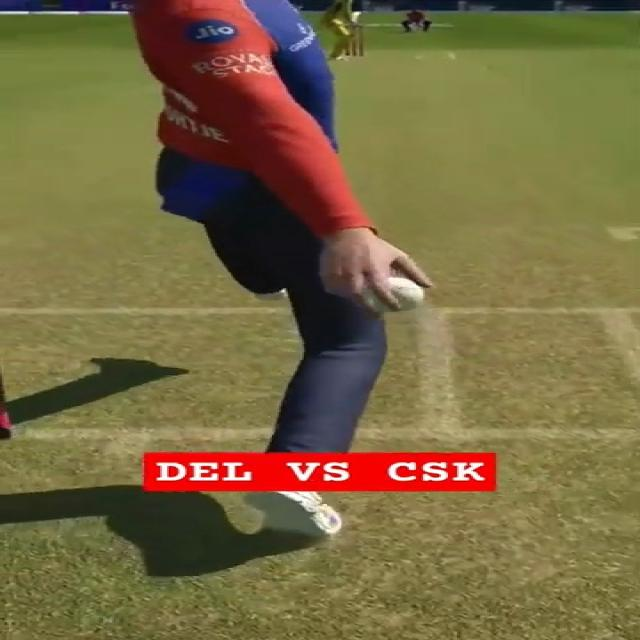ball: (363, 276, 425, 313)
